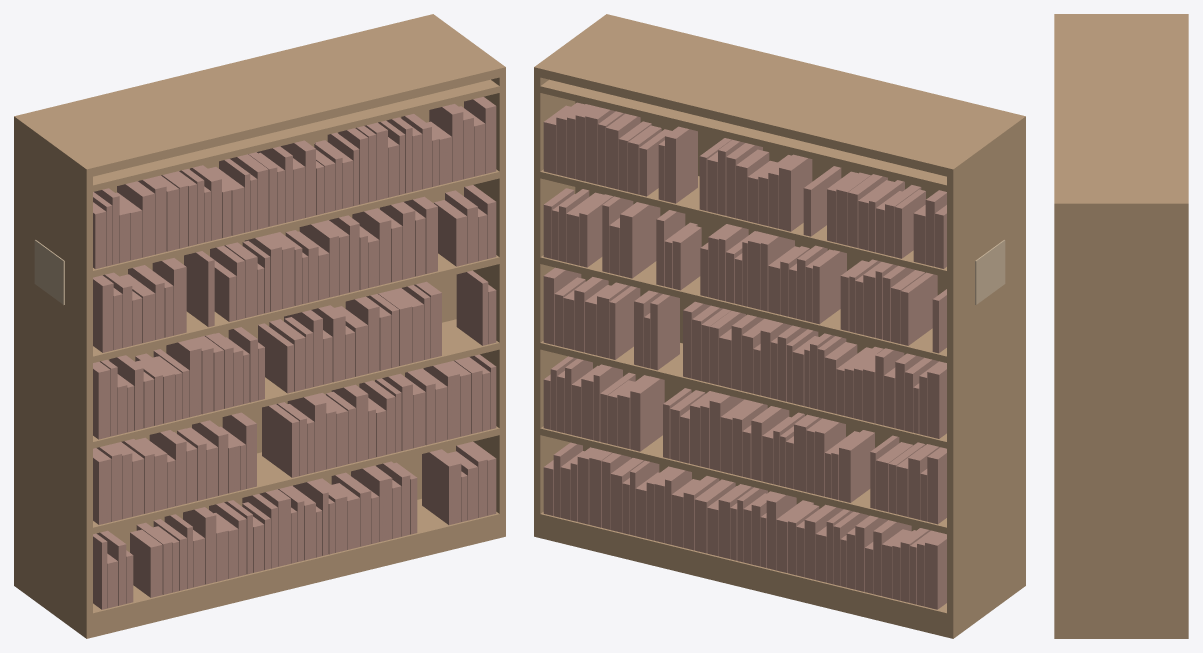
File: Library_Stack.fbx
The picture shows the model from 3 angles, left to right: view 1: azimuth 30°, elevation 25°; view 2: azimuth 150°, elevation 25°; view 3: azimuth 270°, elevation 25°; orthographic projection. The views are drawn at different scales.
Parts seen in each view (by area): view 1: Library_Stack; view 2: Library_Stack; view 3: Library_Stack.
Boxes of the visible parts, x1,y1,x2,y2 form: Library_Stack: (14, 14, 505, 638); Library_Stack: (534, 14, 1025, 638); Library_Stack: (1054, 14, 1188, 638).
Bounding box in the file's own units: 2 × 2.14 × 0.6.
